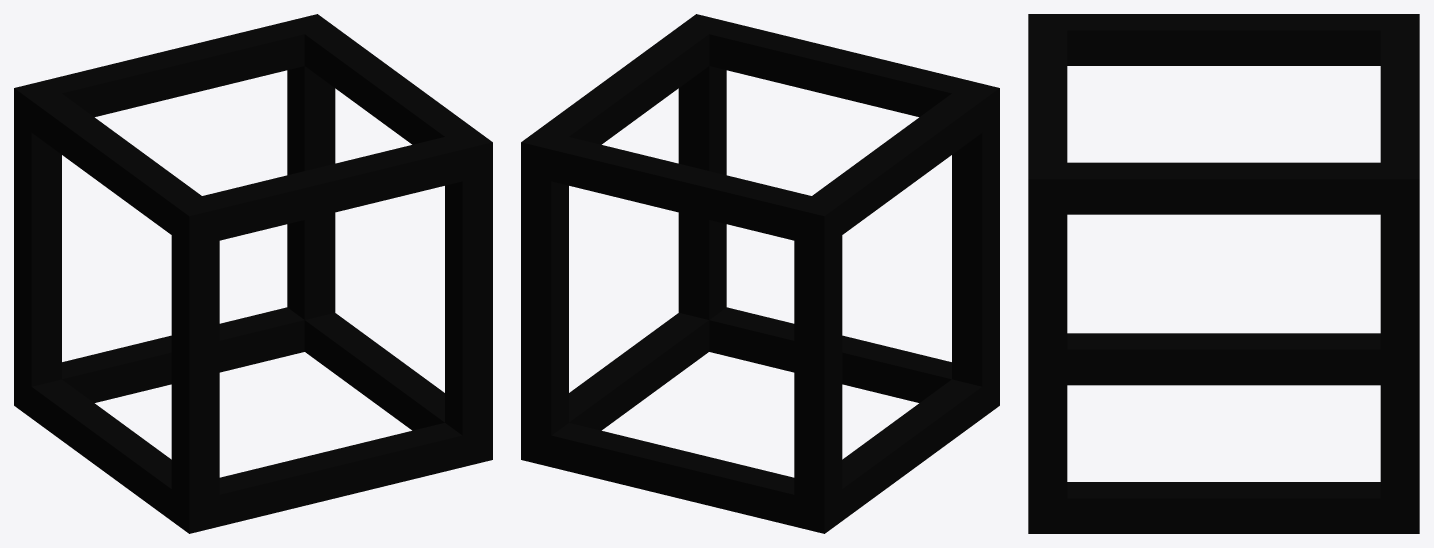
Rendered from GooseBox_Hollow.fbx.
The picture shows the model from 3 angles, left to right: view 1: azimuth 30°, elevation 25°; view 2: azimuth 150°, elevation 25°; view 3: azimuth 270°, elevation 25°; orthographic projection. The views are drawn at different scales.
Parts seen in each view (by area): view 1: Box; view 2: Box; view 3: Box.
Boxes of the visible parts, bbox=[...] form: Box: bbox=[14, 14, 492, 533]; Box: bbox=[521, 14, 999, 533]; Box: bbox=[1028, 14, 1419, 533].
Bounding box in the file's own units: 10 × 10 × 10.
Materials: 1 (1 with a texture image).
